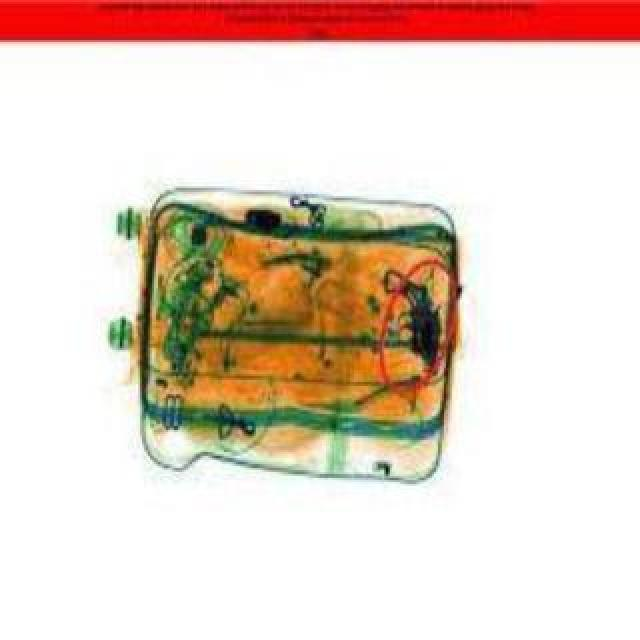gun: (376, 264, 436, 370)
